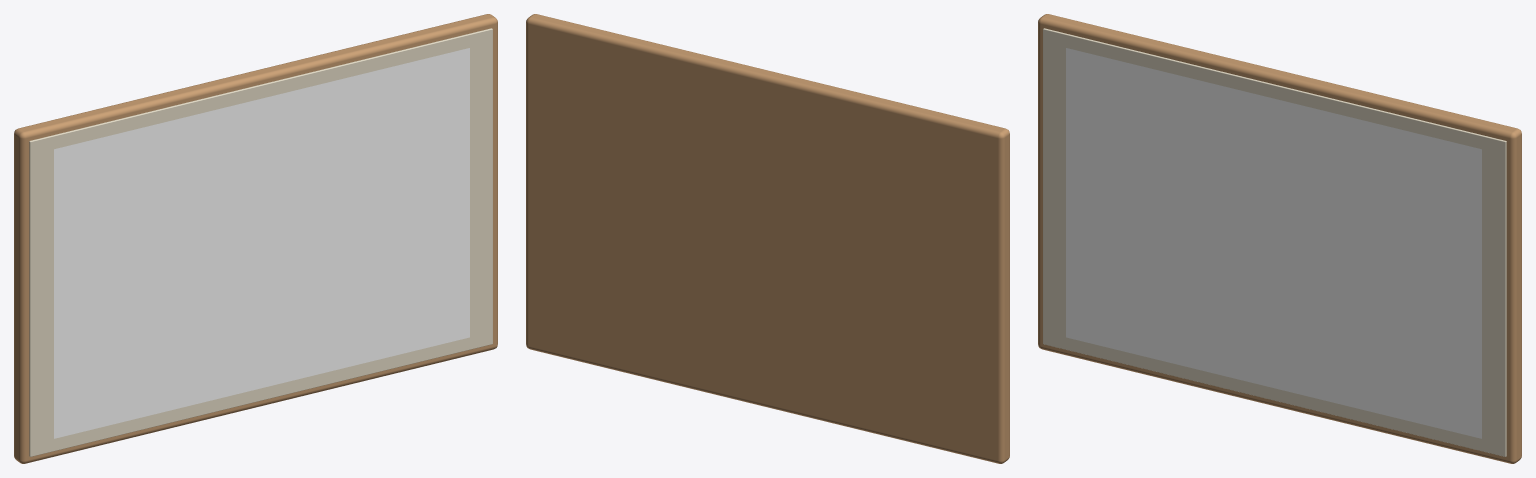
Rendered from family-picnic-print-v1.glb.
3 views of the same model, side by side, from view 1: azimuth 30°, elevation 25°; view 2: azimuth 150°, elevation 25°; view 3: azimuth 330°, elevation 25° (orthographic).
Parts seen in each view (by area): view 1: Picnic print, Warm paper mount, Oak gallery moulding; view 2: Oak gallery moulding; view 3: Picnic print, Warm paper mount, Oak gallery moulding.
Boxes of the visible parts, left/top/right/bottom form: Picnic print: left=54, top=48, right=469, bottom=438; Warm paper mount: left=29, top=28, right=492, bottom=456; Oak gallery moulding: left=14, top=14, right=497, bottom=463; Oak gallery moulding: left=526, top=14, right=1009, bottom=463; Picnic print: left=1066, top=48, right=1481, bottom=438; Warm paper mount: left=1043, top=28, right=1506, bottom=456; Oak gallery moulding: left=1038, top=14, right=1521, bottom=463.
Bounding box in the file's own units: 0.83 × 0.55 × 0.032.
